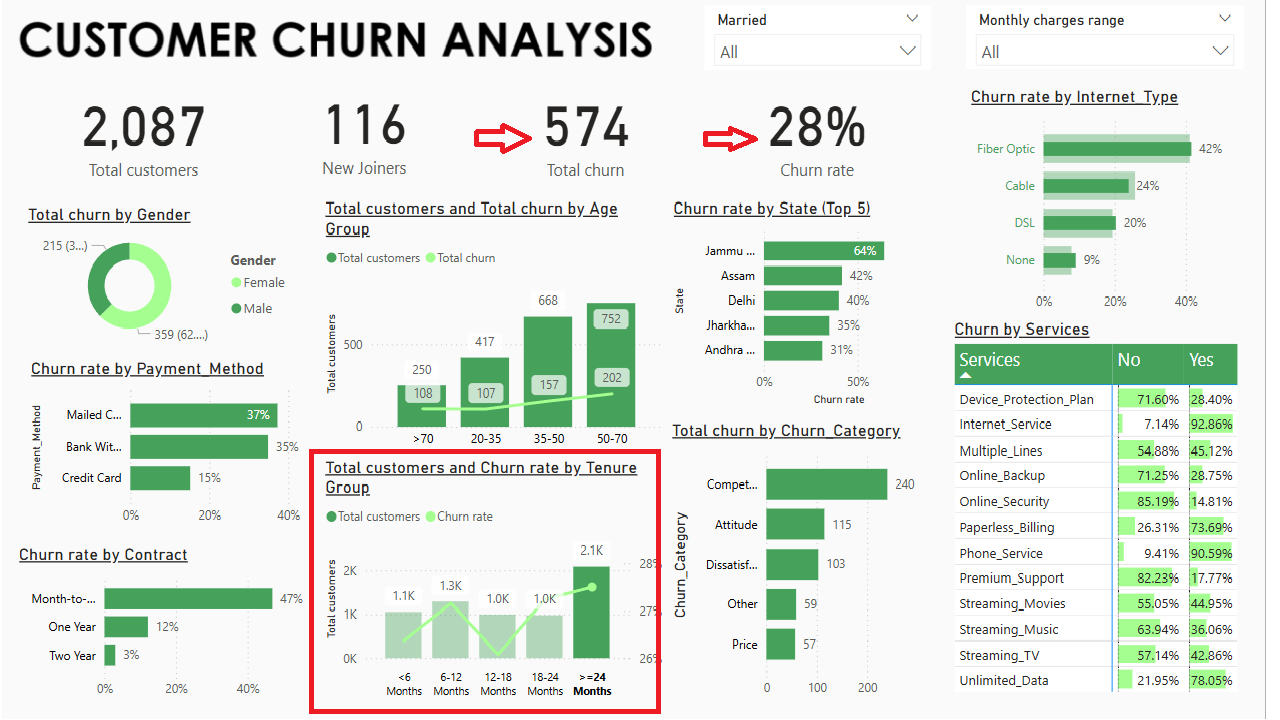

Layout of this report page (visuals, bound fields, positions):
{"tool":"powerbi","page":{"name":"Analysis","canvas":[1280,720],"ordinal":0},"visuals":[{"type":"card","fields":{"Values":["Measures_table.New Joiners"]},"box":[263.3,76.7,211.7,111.7],"z":0},{"type":"card","fields":{"Values":["Measures_table.Total churn"]},"box":[486.7,78.3,213.3,111.7],"z":1000},{"type":"card","fields":{"Values":["Measures_table.Total customers"]},"box":[26.7,78.3,236.7,111.7],"z":2000},{"type":"donutChart","fields":{"Category":["churn_production.Gender"],"Y":["Measures_table.Total churn"]},"box":[24.4,207.1,280.4,139.5],"z":3000},{"type":"lineStackedColumnComboChart","fields":{"Category":["age_grouping.Age Group"],"Y":["Measures_table.Total customers"],"Y2":["Measures_table.Total churn"]},"box":[325,201.7,350,253.3],"z":4000},{"type":"clusteredBarChart","fields":{"Category":["churn_production.Payment_Method"],"Y":["Measures_table.Churn rate"]},"box":[26.7,356.7,298.3,171.7],"z":5000},{"type":"clusteredBarChart","fields":{"Category":["churn_production.Contract"],"Y":["Measures_table.Churn rate"]},"box":[15.1,539.1,310.4,160.5],"z":6000},{"type":"card","fields":{"Values":["Measures_table.Churn rate"]},"box":[713.3,78.3,226.7,111.7],"z":7000},{"type":"lineStackedColumnComboChart","fields":{"Category":["tenure_grouping.Tenure Group"],"Y":["Measures_table.Total customers"],"Y2":["Measures_table.Churn rate"]},"box":[325.6,454.3,349.8,243.8],"z":8000},{"type":"clusteredBarChart","title":"Churn rate by State (Top 5)","fields":{"Category":["churn_production.State"],"Y":["Measures_table.Churn rate"]},"box":[676.7,201.7,265,206.7],"z":9000},{"type":"clusteredBarChart","fields":{"Category":["churn_production.Churn_Category"],"Y":["Measures_table.Total churn"]},"box":[675.3,417.9,265,280.1],"z":10000},{"type":"clusteredBarChart","fields":{"Category":["churn_production.Internet_Type"],"Y":["Measures_table.Churn rate"]},"box":[978.3,91.7,280,228.3],"z":11000},{"type":"pivotTable","title":"Churn by Services","fields":{"Rows":["prod_service.Services"],"Columns":["prod_service.Status"],"Values":["Sum(prod_service.Churn status)"]},"box":[961.7,320,296.7,380],"z":12000},{"type":"slicer","fields":{"Values":["churn_production.Monthly charges "]},"box":[977.9,14.4,280.4,61.8],"z":13000},{"type":"slicer","fields":{"Values":["churn_production.Married"]},"box":[713.3,14.4,228.7,63.3],"z":14000},{"type":"textbox","box":[676.8,0,443.7,299.8],"z":14001}]}

Visuals, with their boxes in screenshot pixels (x1, y1, x2, y2), scaled from the page's 1280x720 canvas onto the 1280x720 screenshot:
card - Measures_table.New Joiners: detection(263, 77, 475, 188)
card - Measures_table.Total churn: detection(487, 78, 700, 190)
card - Measures_table.Total customers: detection(27, 78, 263, 190)
donutChart - churn_production.Gender x Measures_table.Total churn: detection(24, 207, 305, 347)
lineStackedColumnComboChart - age_grouping.Age Group x Measures_table.Total customers: detection(325, 202, 675, 455)
clusteredBarChart - churn_production.Payment_Method x Measures_table.Churn rate: detection(27, 357, 325, 528)
clusteredBarChart - churn_production.Contract x Measures_table.Churn rate: detection(15, 539, 326, 700)
card - Measures_table.Churn rate: detection(713, 78, 940, 190)
lineStackedColumnComboChart - tenure_grouping.Tenure Group x Measures_table.Total customers: detection(326, 454, 675, 698)
"Churn rate by State (Top 5)" clusteredBarChart: detection(677, 202, 942, 408)
clusteredBarChart - churn_production.Churn_Category x Measures_table.Total churn: detection(675, 418, 940, 698)
clusteredBarChart - churn_production.Internet_Type x Measures_table.Churn rate: detection(978, 92, 1258, 320)
"Churn by Services" pivotTable: detection(962, 320, 1258, 700)
slicer - churn_production.Monthly charges : detection(978, 14, 1258, 76)
slicer - churn_production.Married: detection(713, 14, 942, 78)
textbox: detection(677, 0, 1120, 300)
